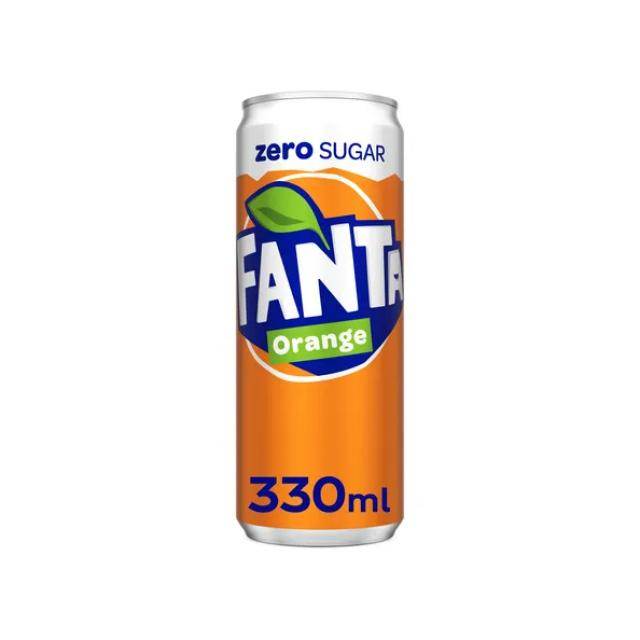fanta: (232, 95, 411, 552)
